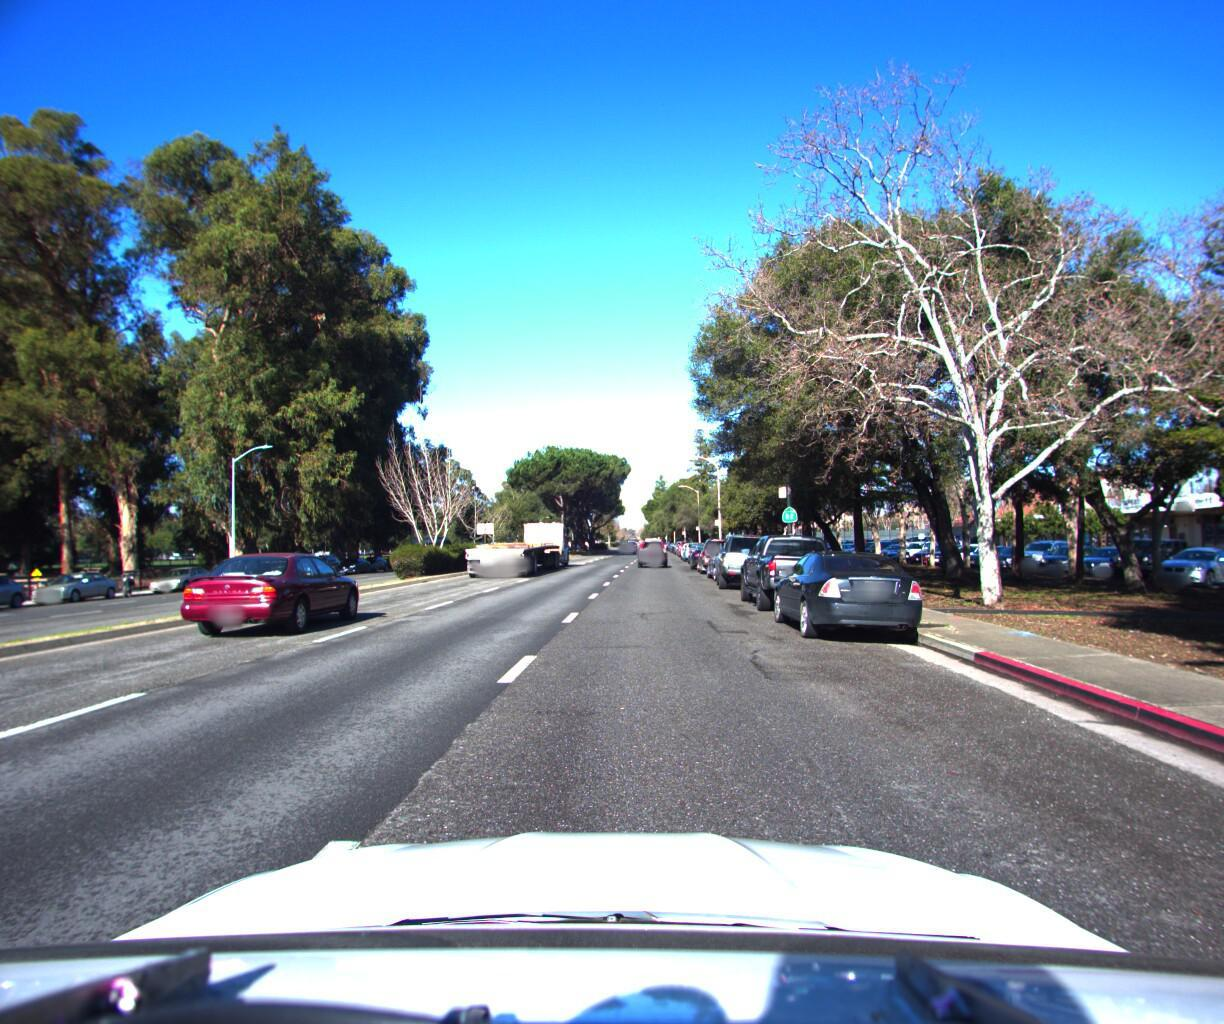car: (760, 540, 937, 647), (182, 544, 372, 642), (735, 525, 852, 612), (713, 525, 780, 589), (25, 566, 127, 606), (702, 538, 761, 576), (146, 562, 222, 592), (694, 530, 741, 570), (252, 551, 307, 580), (634, 533, 668, 566)
motorcycle: (121, 565, 145, 596)
truck: (456, 494, 579, 585)
